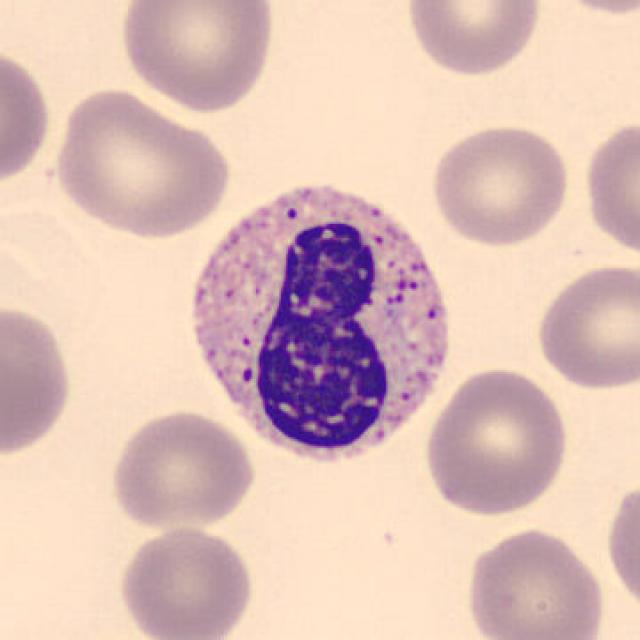Neutrophil: (174, 168, 464, 482)
RBC: (46, 85, 235, 242), (422, 364, 572, 518), (106, 406, 258, 532), (425, 120, 572, 248), (116, 0, 279, 115), (460, 523, 609, 640), (114, 522, 258, 640), (532, 261, 638, 393), (0, 298, 76, 460), (402, 0, 546, 78), (580, 115, 638, 259), (0, 42, 55, 190), (602, 474, 640, 618), (542, 0, 638, 18)
